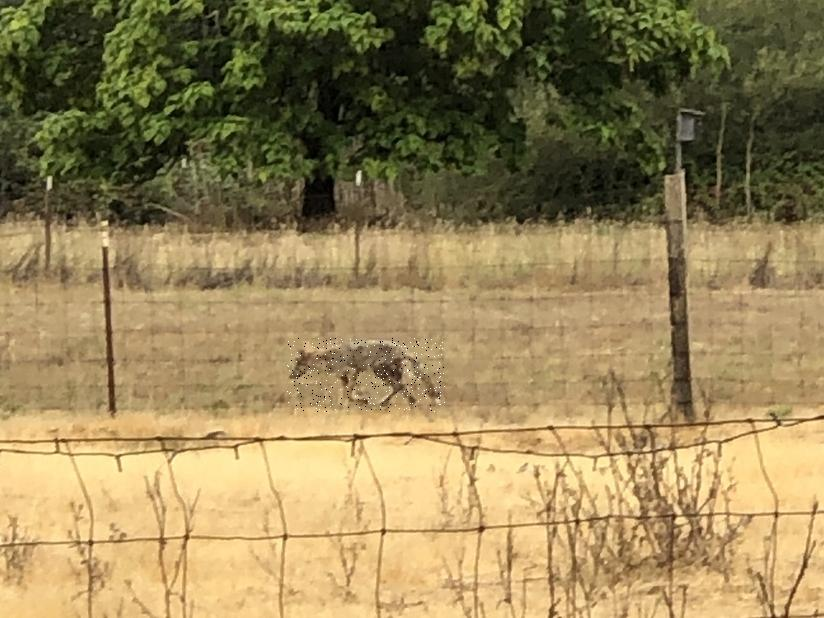Coyote: (287, 339, 445, 413)
